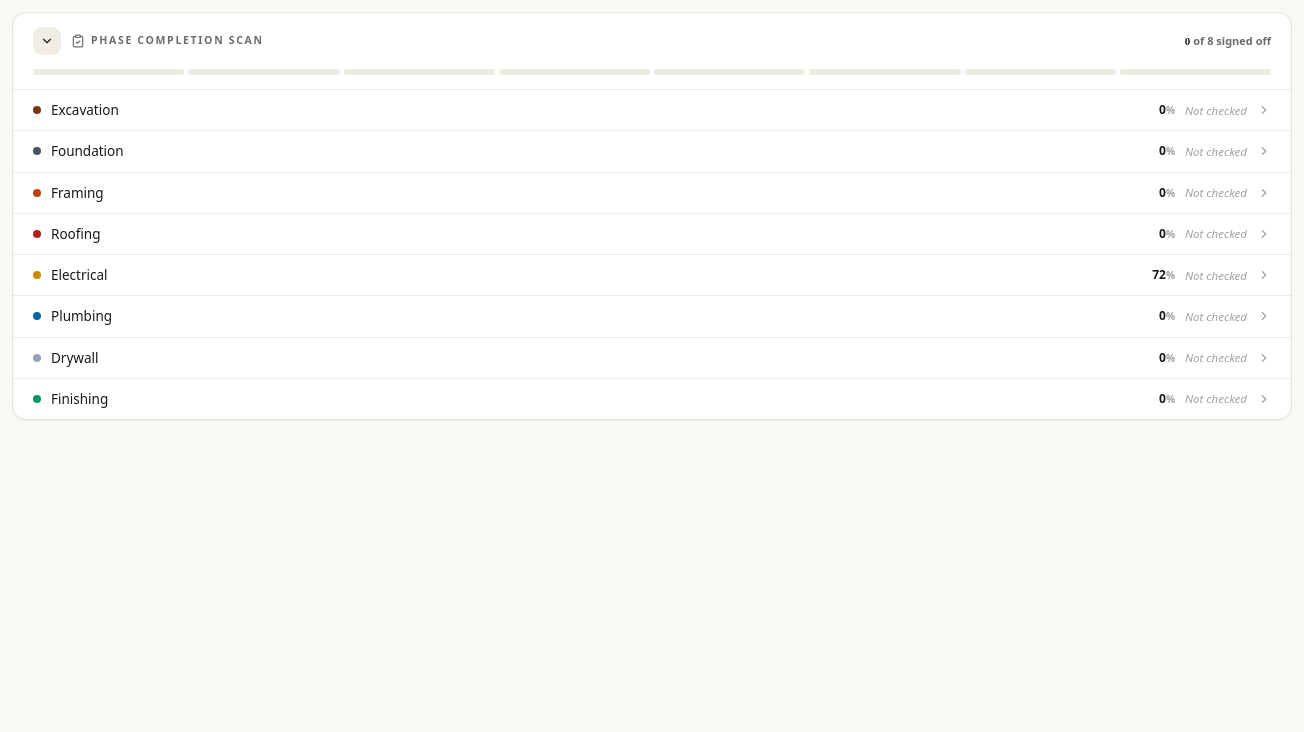
Test: PhaseCompletionBoard › surfaces a phase's scan results (status + filename) when expanded
Click the button "Electrical 72% Not checked": (79, 275) [13,255,1291,295]
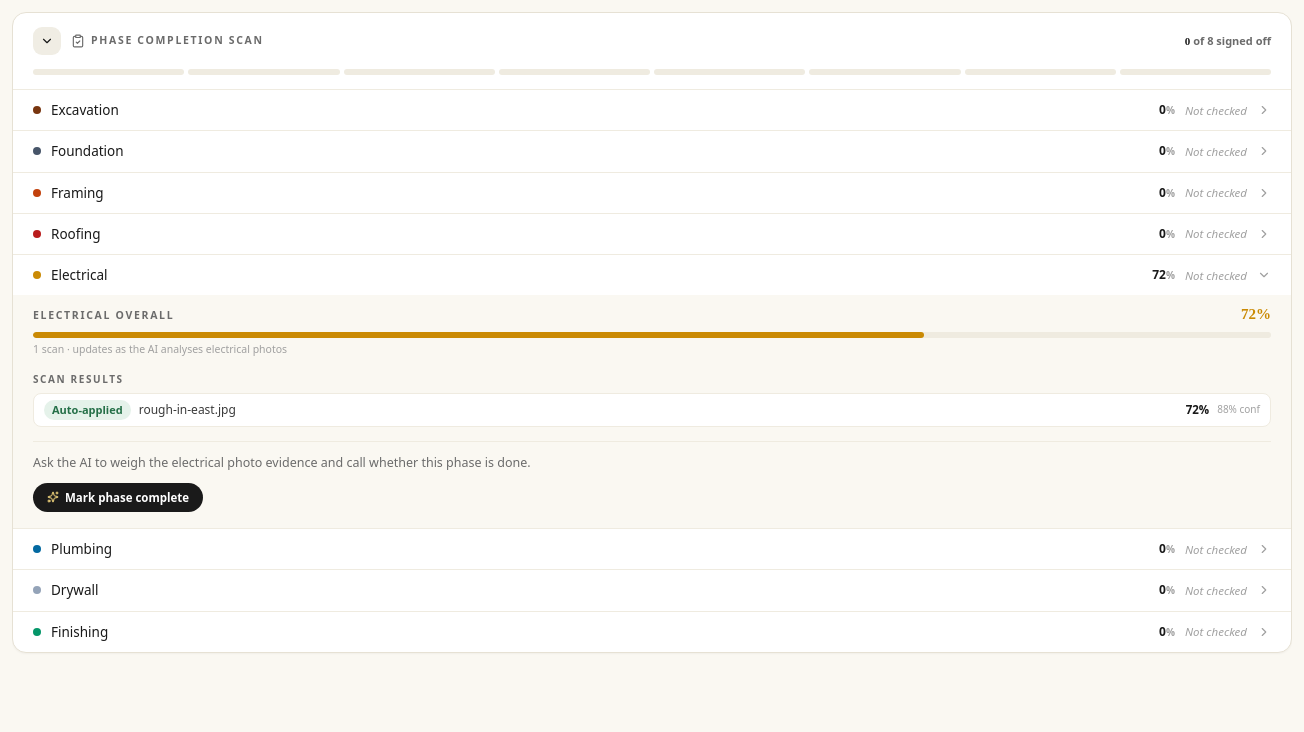
Check: the text "rough-in-east.jpg" is shown, box [139,401,236,418]
Check: the text "Auto-applied" is shown, box [44,400,131,420]
